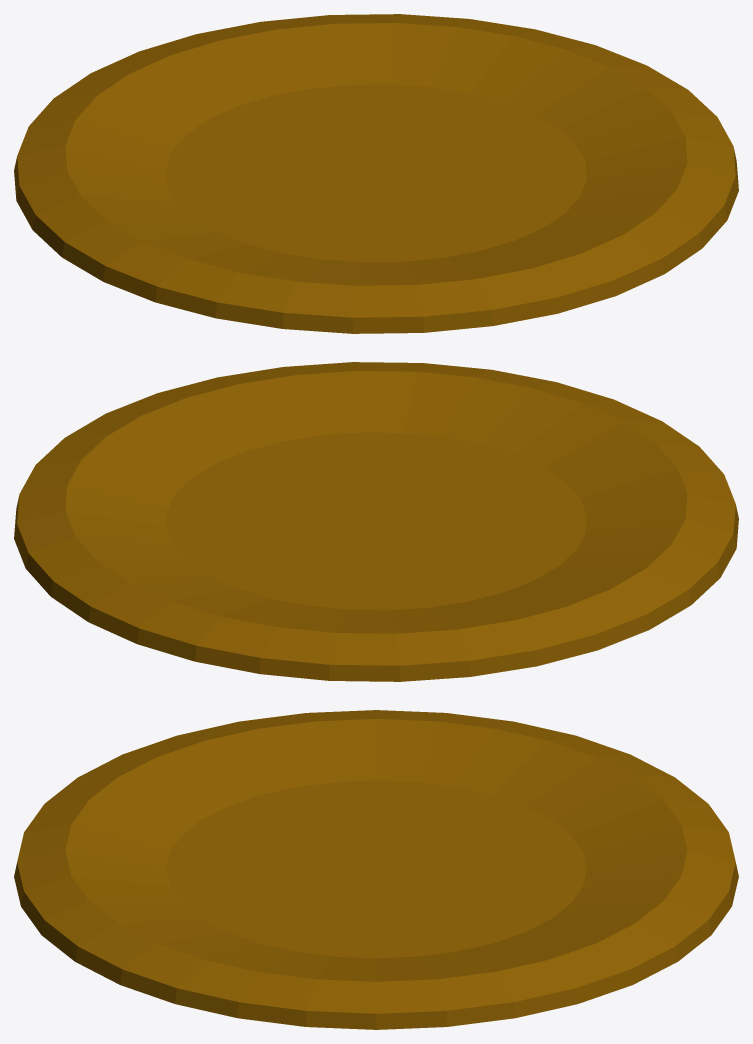
File: pocketwatchlid.glb
The picture shows the model from 3 angles, top to bottom: view 1: azimuth 30°, elevation 25°; view 2: azimuth 150°, elevation 25°; view 3: azimuth 270°, elevation 25°; orthographic projection.
Visible parts, largest first — view 1: Circle.001; view 2: Circle.001; view 3: Circle.001.
Part boxes in pixels (x1,y1,x2,y2): Circle.001: (14, 14, 738, 333); Circle.001: (14, 362, 738, 681); Circle.001: (14, 710, 738, 1029).
Bounding box in the file's own units: 1.98 × 0.0796 × 1.98.
